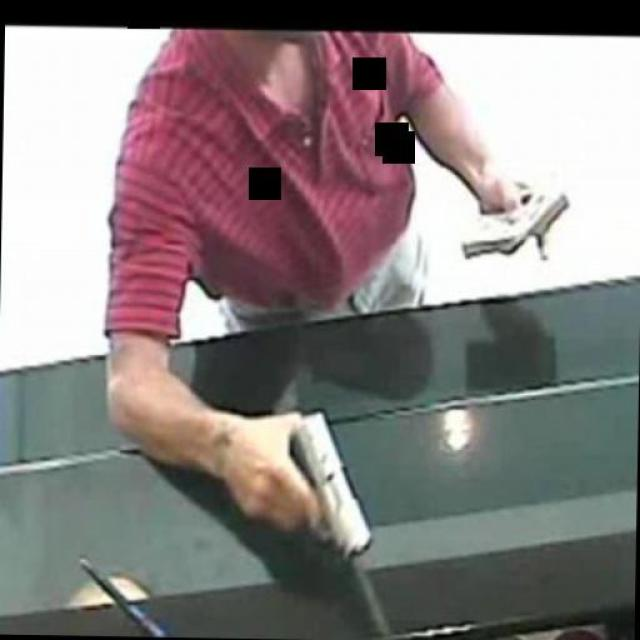gun: (245, 402, 375, 558)
